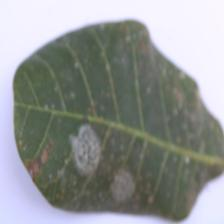red rust: (12, 19, 224, 220)
